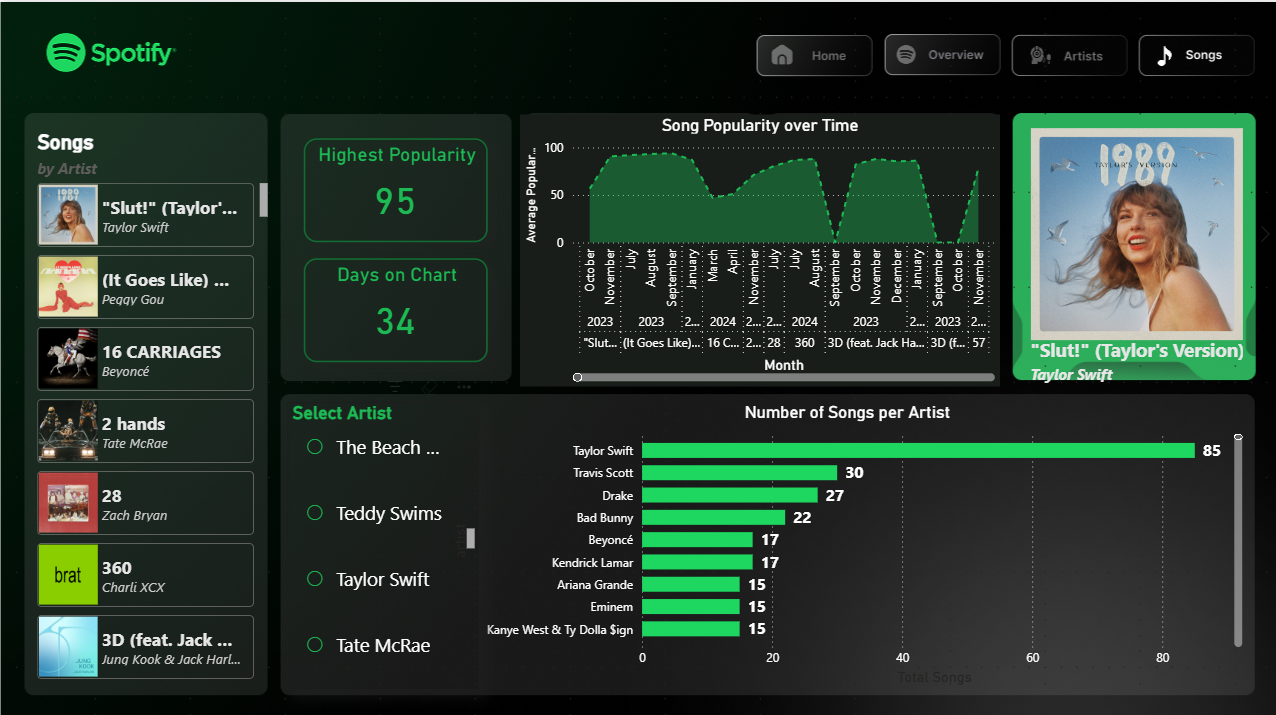

The page's visual inventory and layout, read from the dashboard file:
{"tool":"powerbi","page":{"name":"Songs","canvas":[1280,720],"ordinal":3},"visuals":[{"type":"actionButton","box":[768,32,96,32],"z":0},{"type":"actionButton","box":[896,32,96,32],"z":1000},{"type":"actionButton","box":[1024,32,96,32],"z":2000},{"type":"kpi","title":"Highest Popularity","fields":{"Indicator":["AllMeasures.Maximum Popularity"],"TrendLine":["Spotify.song"]},"box":[304,136,184,104],"z":3000},{"type":"kpi","title":"Days on Chart","fields":{"Indicator":["AllMeasures.Days on Chart"],"TrendLine":["Spotify.song"]},"box":[304,256,184,104],"z":4000},{"type":"areaChart","title":"Song Popularity over Time","fields":{"Category":["Spotify.song","Spotify.date.Variation.Date Hierarchy.Year","Spotify.date.Variation.Date Hierarchy.Month"],"Y":["AllMeasures.Average Popularity"]},"box":[520,112,480,272],"z":5000},{"type":"advancedSlicerVisual","title":"Songs","fields":{"Values":["Spotify.song"]},"box":[32,128,240,560],"z":6000},{"type":"advancedSlicerVisual","title":"Songs","fields":{"Values":["Spotify.song"]},"box":[992,64,288,336],"z":7000},{"type":"barChart","title":"Number of Songs per Artist","fields":{"Category":["Spotify.artist"],"Y":["AllMeasures.Total Songs"]},"box":[448,400,800,288],"z":8000},{"type":"advancedSlicerVisual","title":"Select Artist","fields":{"Values":["Spotify.artist"]},"box":[288,400,192,288],"z":9000},{"type":"actionButton","box":[1136,32,112,48],"z":10000}]}

Visuals, with their boxes in screenshot pixels (x1, y1, x2, y2), scaled from the page's 1280x720 canvas onto the 1276x715 screenshot:
actionButton: {"x1": 766, "y1": 32, "x2": 861, "y2": 64}
actionButton: {"x1": 893, "y1": 32, "x2": 989, "y2": 64}
actionButton: {"x1": 1021, "y1": 32, "x2": 1116, "y2": 64}
"Highest Popularity" kpi: {"x1": 303, "y1": 135, "x2": 486, "y2": 238}
"Days on Chart" kpi: {"x1": 303, "y1": 254, "x2": 486, "y2": 358}
"Song Popularity over Time" areaChart: {"x1": 518, "y1": 111, "x2": 997, "y2": 381}
"Songs" advancedSlicerVisual: {"x1": 32, "y1": 127, "x2": 271, "y2": 683}
"Songs" advancedSlicerVisual: {"x1": 989, "y1": 64, "x2": 1275, "y2": 397}
"Number of Songs per Artist" barChart: {"x1": 447, "y1": 397, "x2": 1244, "y2": 683}
"Select Artist" advancedSlicerVisual: {"x1": 287, "y1": 397, "x2": 478, "y2": 683}
actionButton: {"x1": 1132, "y1": 32, "x2": 1244, "y2": 79}
